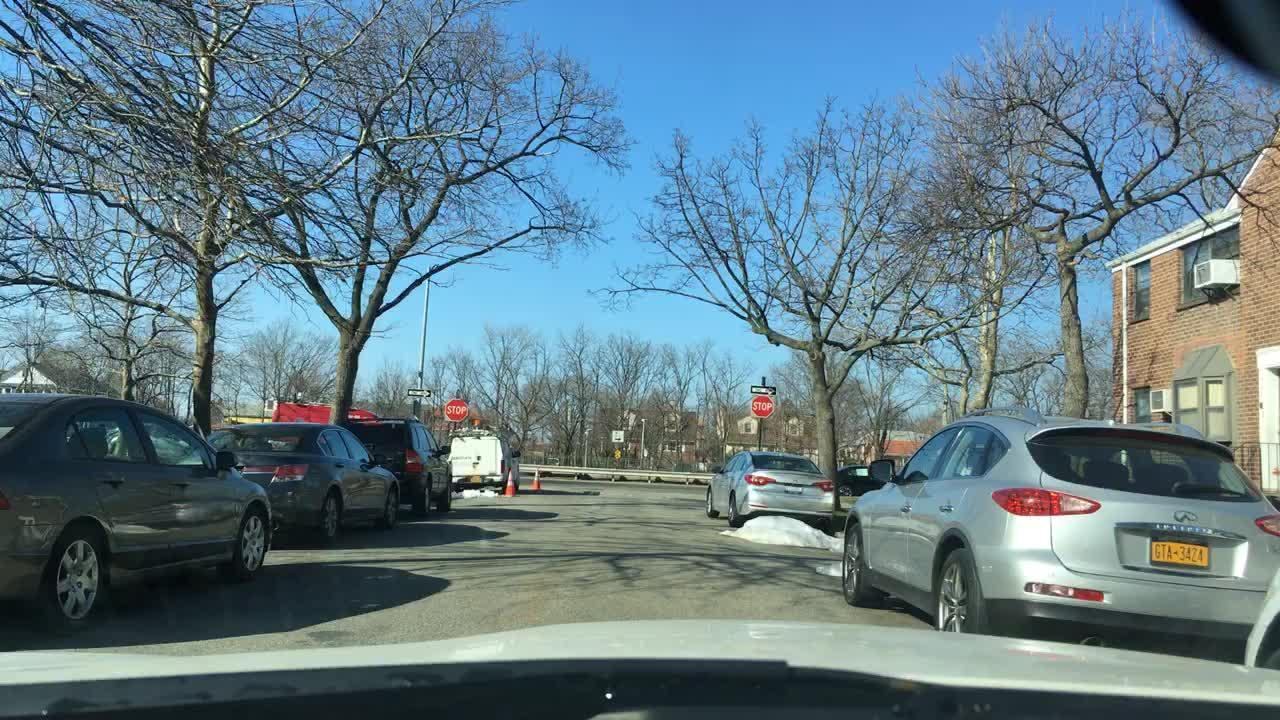Infiniti: (1166, 503, 1210, 532)
